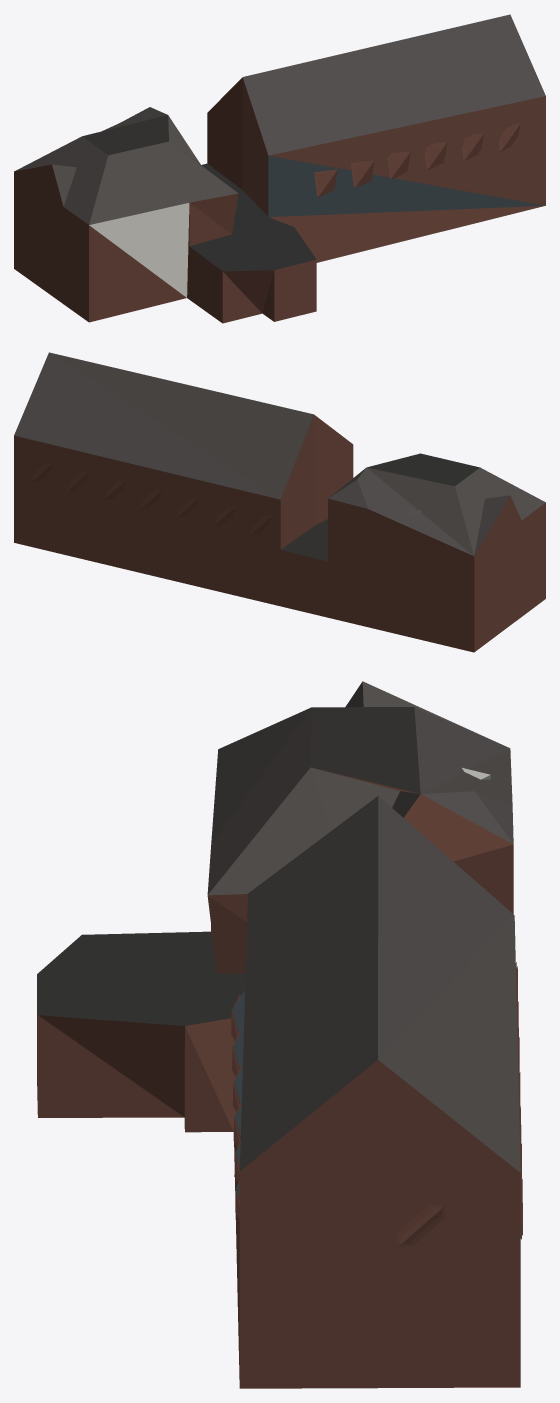
The model's file is rioolgemaal-zeeburgerdijk.lod2.glb.
3 renders of one model, top to bottom at view 1: azimuth 30°, elevation 25°; view 2: azimuth 150°, elevation 25°; view 3: azimuth 270°, elevation 25°, orthographic. The views are drawn at different scales.
Visible parts, largest first — view 1: lod2; view 2: lod2; view 3: lod2.
Part boxes in pixels (box(x1,y1,x2,y2)): lod2: box(14, 14, 545, 323); lod2: box(14, 352, 545, 652); lod2: box(37, 681, 522, 1388).
Bounding box in the file's own units: 40.23 × 13.96 × 18.43.
